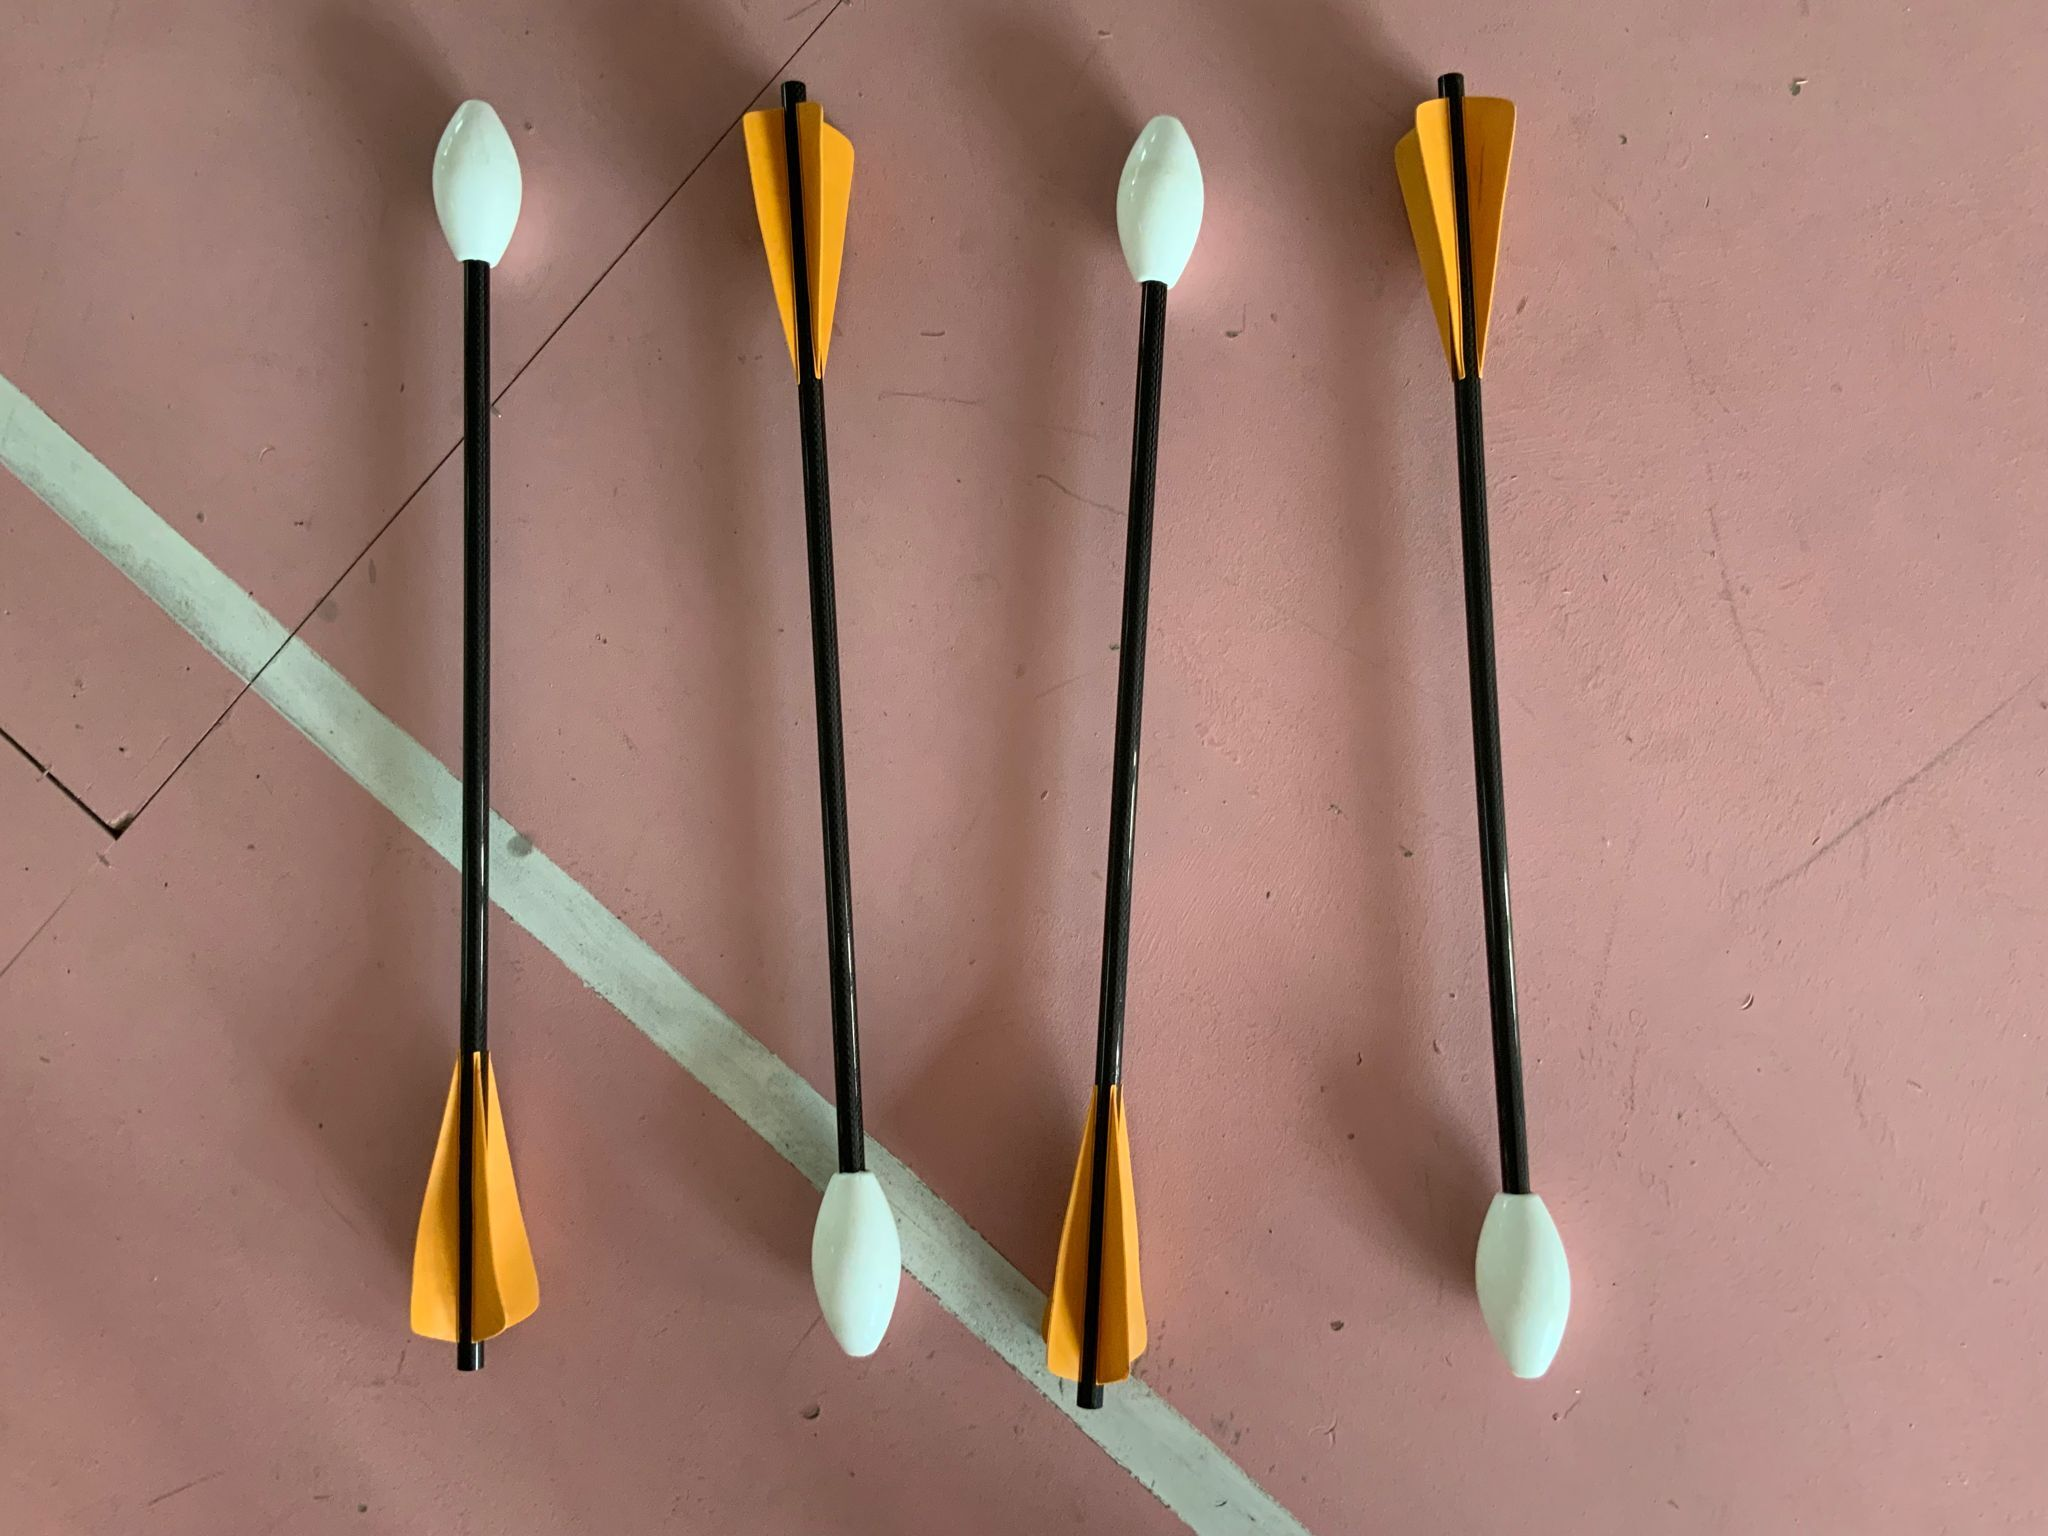arrow: (1393, 69, 1569, 1383), (739, 79, 901, 1357), (1048, 111, 1205, 1409), (406, 95, 550, 1371)
arrowFront: (1472, 1189, 1572, 1383), (810, 1168, 906, 1359), (1111, 111, 1203, 294), (431, 97, 522, 271)
